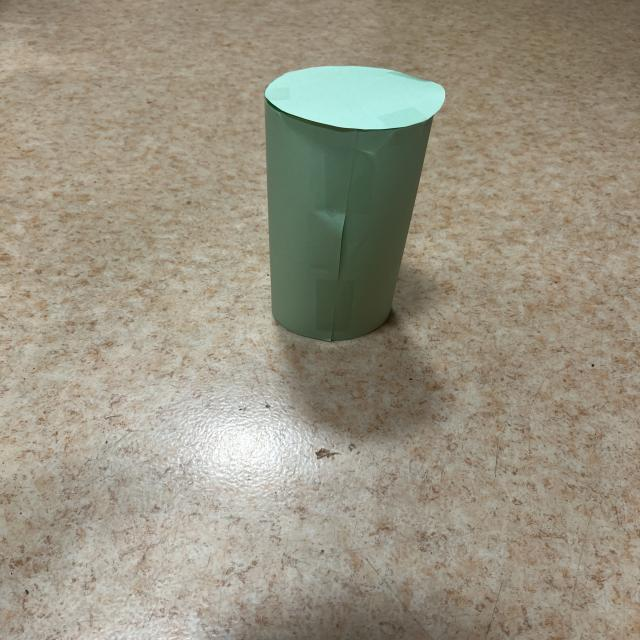meta: (265, 66, 444, 341)
